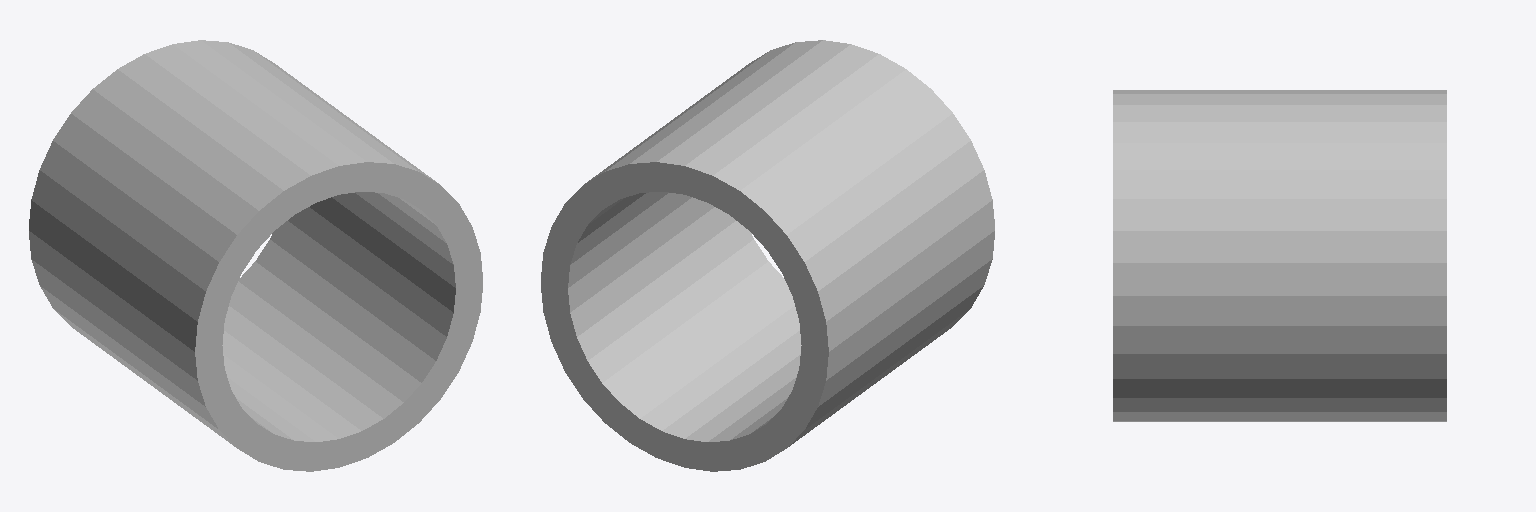
Rendered from surprising_wolt.obj.
3 renders of one model, left to right at view 1: azimuth 30°, elevation 25°; view 2: azimuth 150°, elevation 25°; view 3: azimuth 270°, elevation 25°, orthographic.
Bounding box in the file's own units: 21 × 21 × 21.